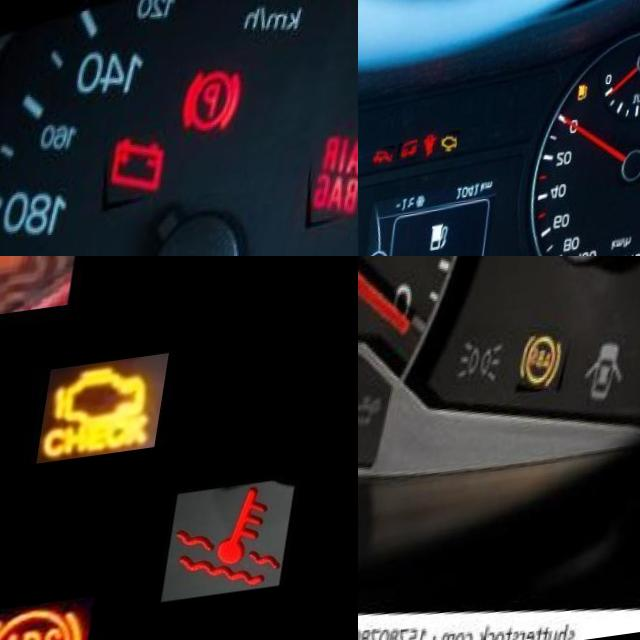Engine cooling system: (177, 496, 308, 617)
